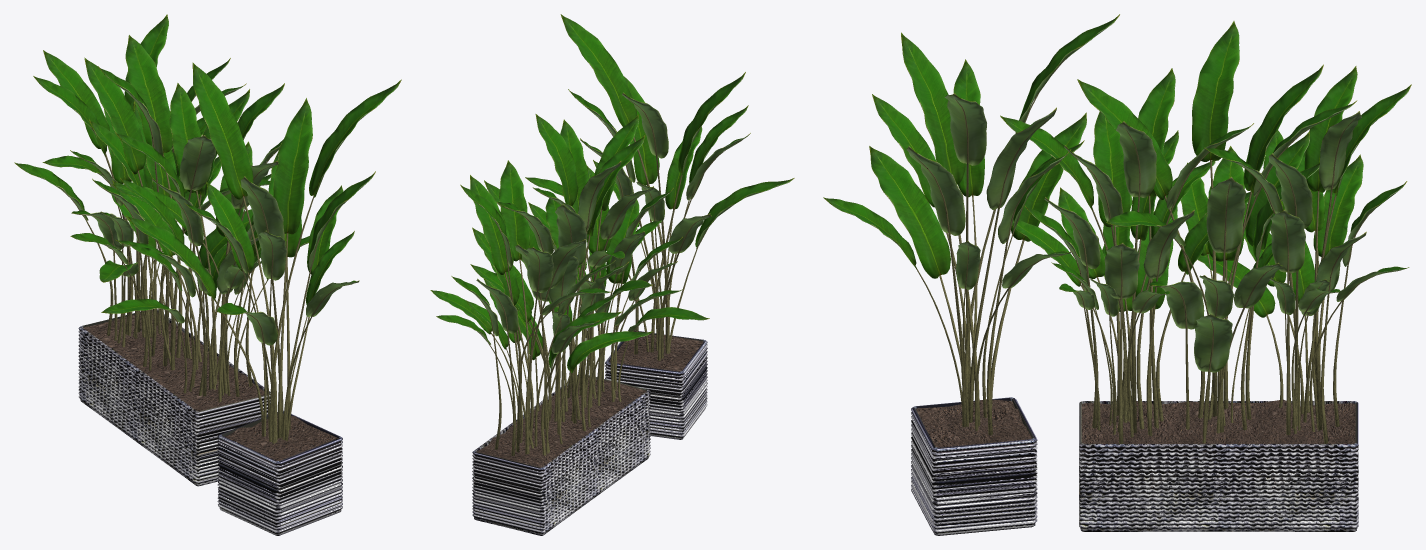
Rendered from BANANA BIG SET EDITED.FBX.
The picture shows the model from 3 angles, left to right: view 1: azimuth 30°, elevation 25°; view 2: azimuth 150°, elevation 25°; view 3: azimuth 270°, elevation 25°; orthographic projection. The views are drawn at different scales.
Visible parts, largest first — view 1: Plane9611, Plane9612, Plane9739, Plane033, Plane031, Plane071, Plane085, Plane043, Plane9740, Plane9760, Plane061, Plane032 (+44 smaller); view 2: Plane9611, Plane9612, Plane9739, Plane043, Plane9768, Plane9740, Plane9764, Plane9761, Plane032, Plane033, Plane085, Plane061 (+47 smaller); view 3: Plane9611, Plane9612, Plane9739, Plane059, Plane039, Plane032, Plane9740, Plane9761, Plane030, Plane074, Plane043, Plane031 (+54 smaller).
Boxes of the visible parts, x1,y1,x2,y2 form: Plane9611: (78,309,270,486); Plane9612: (217,410,342,535); Plane9739: (83,310,266,411); Plane033: (192,62,277,442); Plane031: (273,98,312,438); Plane071: (125,35,182,396); Plane085: (84,57,175,354); Plane043: (270,79,401,441); Plane9740: (224,414,338,460); Plane9760: (169,83,217,384); Plane061: (170,135,215,394); Plane032: (241,176,284,436); Plane9611: (472,374,650,535); Plane9612: (605,331,707,439); Plane9739: (476,376,646,467); Plane043: (560,14,669,353); Plane9768: (499,160,529,442); Plane9740: (609,334,703,371); Plane9764: (470,175,533,444); Plane9761: (535,114,583,395); Plane032: (650,72,745,352); Plane033: (621,92,668,351); Plane085: (555,204,587,421); Plane061: (574,135,645,419); Plane9611: (1079,401,1358,531); Plane9612: (911,397,1037,535); Plane9739: (1081,399,1355,444); Plane059: (1192,21,1239,416); Plane039: (869,146,960,363); Plane032: (901,32,980,426); Plane9740: (916,399,1031,447); Plane9761: (1116,121,1156,433); Plane030: (906,146,966,427); Plane074: (1206,176,1245,432); Plane043: (944,93,986,409); Plane031: (968,107,1056,422).
Size of the model in its own units: 116 by 196 by 216.
Materials: 5 (5 with a texture image).
